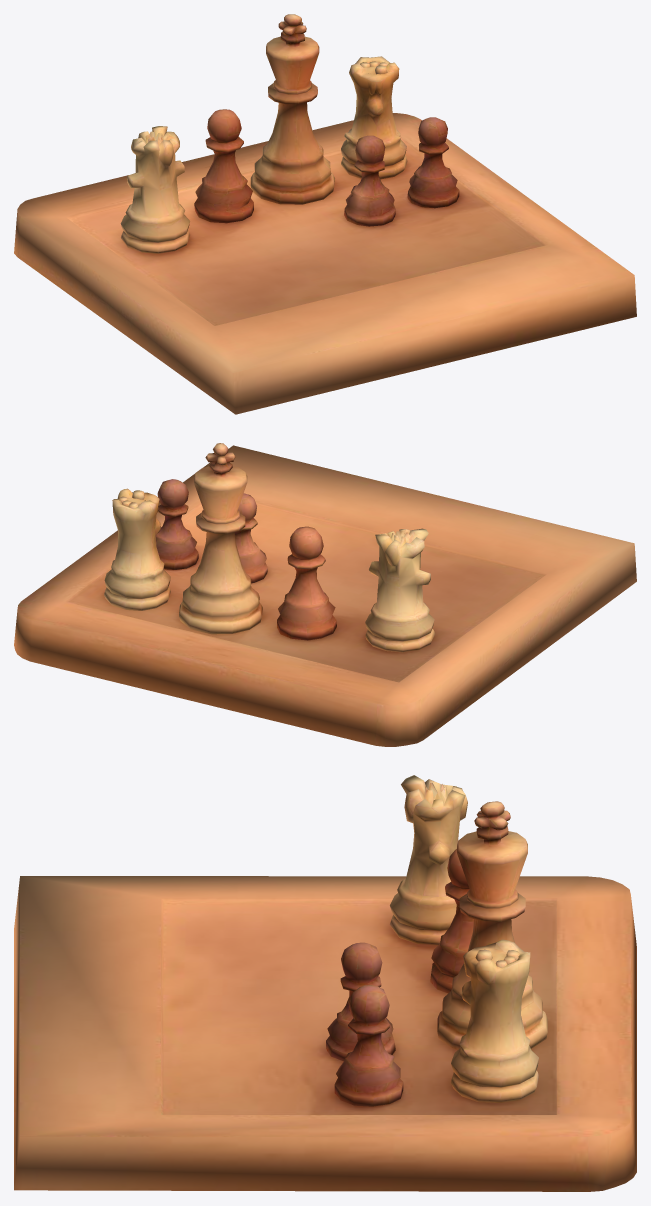
File: desk-plan.glb
3 views of the same model, one above another, from view 1: azimuth 30°, elevation 25°; view 2: azimuth 150°, elevation 25°; view 3: azimuth 270°, elevation 25° (orthographic). The views are drawn at different scales.
Visible parts, largest first — view 1: tripo_node_b90e0767-0d66-44b6-8674-93be94feef74; view 2: tripo_node_b90e0767-0d66-44b6-8674-93be94feef74; view 3: tripo_node_b90e0767-0d66-44b6-8674-93be94feef74.
Part boxes in pixels (x1,y1,x2,y2): tripo_node_b90e0767-0d66-44b6-8674-93be94feef74: (14, 14, 636, 414); tripo_node_b90e0767-0d66-44b6-8674-93be94feef74: (14, 443, 636, 746); tripo_node_b90e0767-0d66-44b6-8674-93be94feef74: (14, 775, 636, 1191).
Size of the model in its own units: 0.998 by 0.4941 by 0.9941.
1 material, 1 textured.
